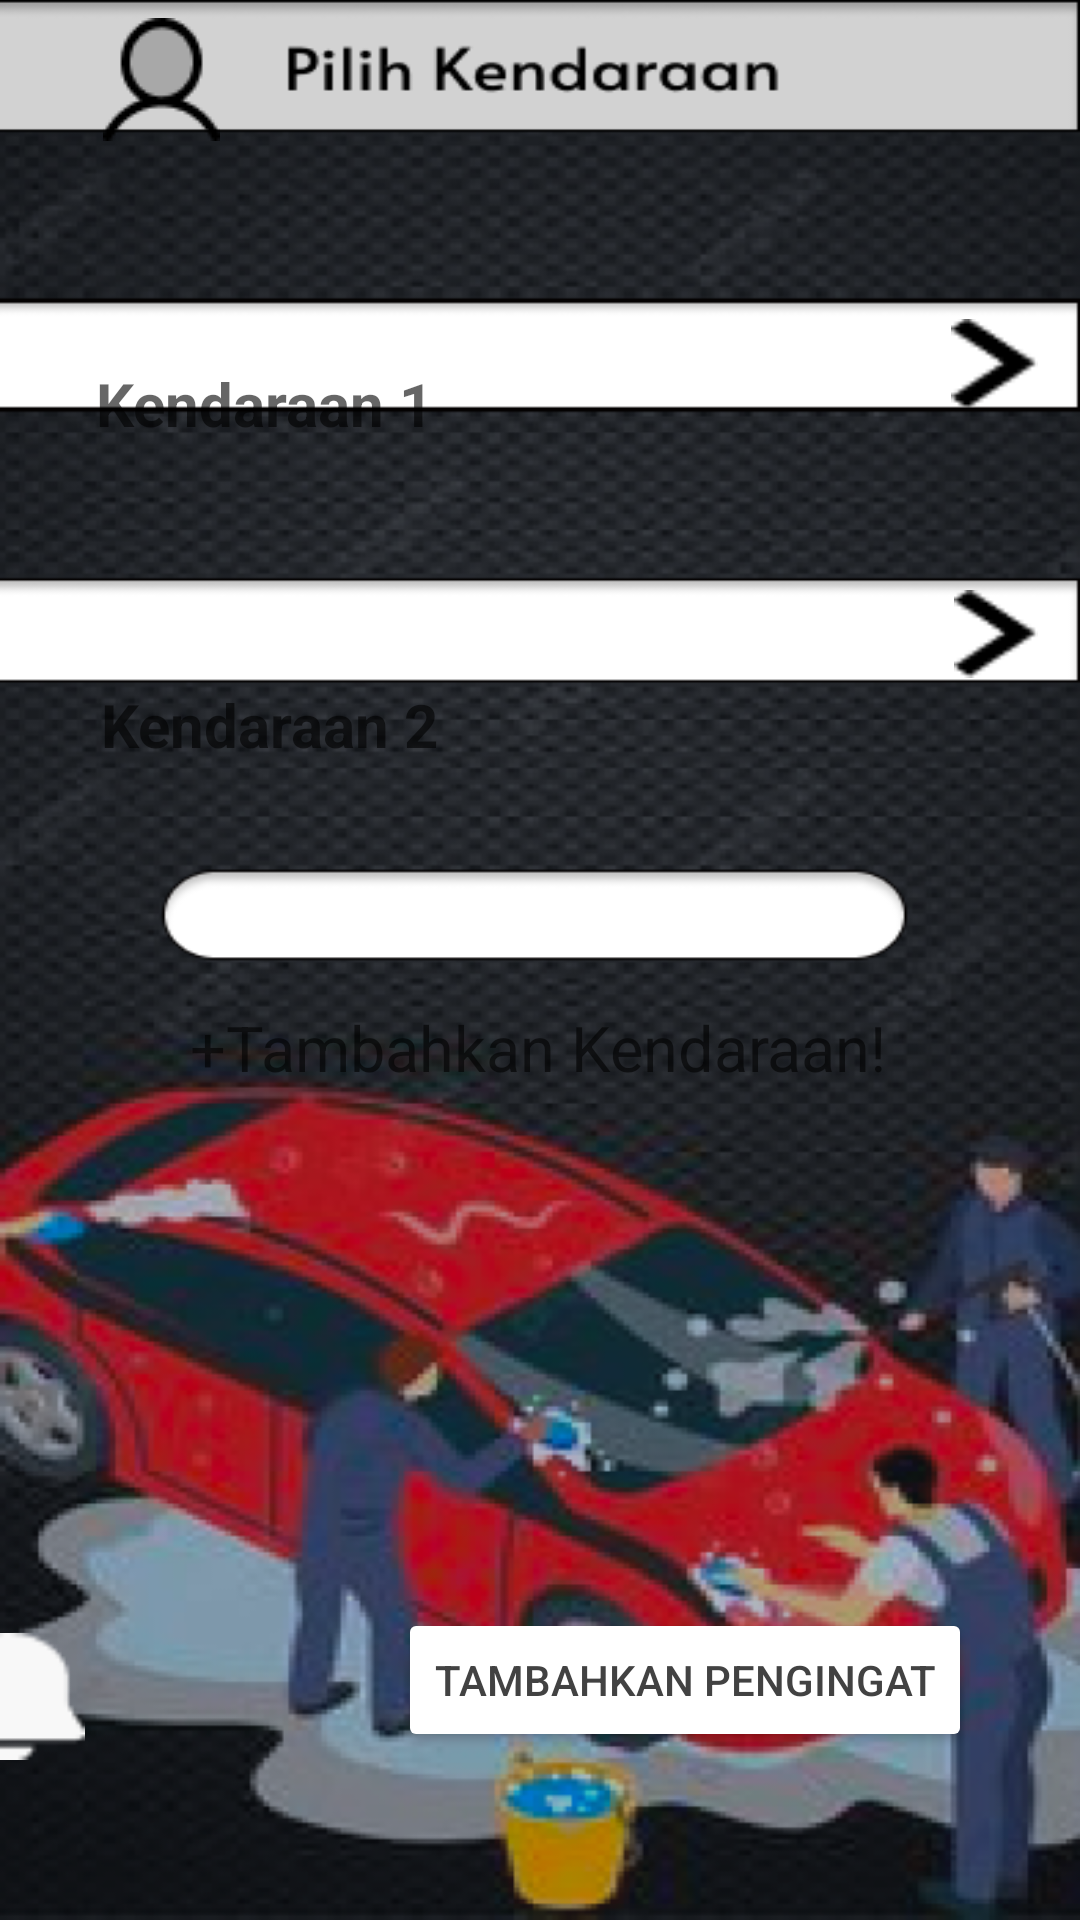

Screen size 1080×1920. Icon name, then its center in pixels as (x,y):
acc photo: (161,79)
next: (994,365), (995,634)
